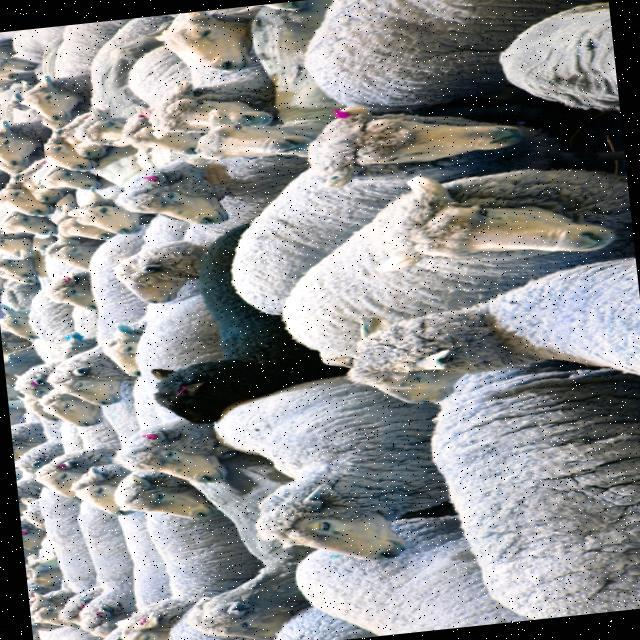sheep: (344, 259, 640, 405), (218, 382, 446, 559)
